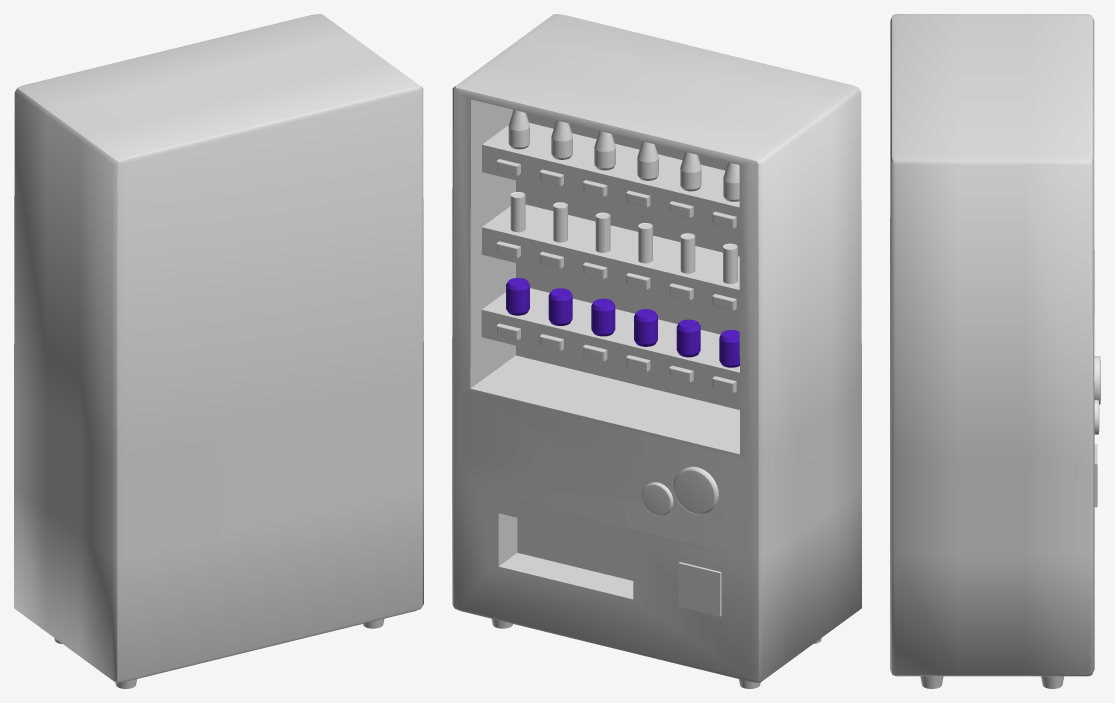
File: vending machine v2.fbx
The picture shows the model from 3 angles, left to right: view 1: azimuth 30°, elevation 25°; view 2: azimuth 150°, elevation 25°; view 3: azimuth 270°, elevation 25°; orthographic projection.
Visible parts, largest first — view 1: body; view 2: body, board, button, can, bottle, thincan, decorate, coin; view 3: body, Cylinder, decorate.
Boxes of the visible parts, x1,y1,x2,y2 form: body: [14, 14, 423, 682]; body: [452, 14, 861, 682]; board: [481, 123, 739, 399]; button: [496, 159, 736, 392]; can: [506, 278, 739, 367]; bottle: [508, 110, 739, 201]; thincan: [510, 192, 737, 283]; decorate: [641, 466, 718, 515]; coin: [678, 562, 721, 616]; body: [890, 14, 1094, 676]; Cylinder: [920, 676, 1064, 688]; decorate: [1094, 356, 1100, 434].
Size of the model in its own units: 517 by 865 by 307.
Materials: 9 (1 with a texture image).
